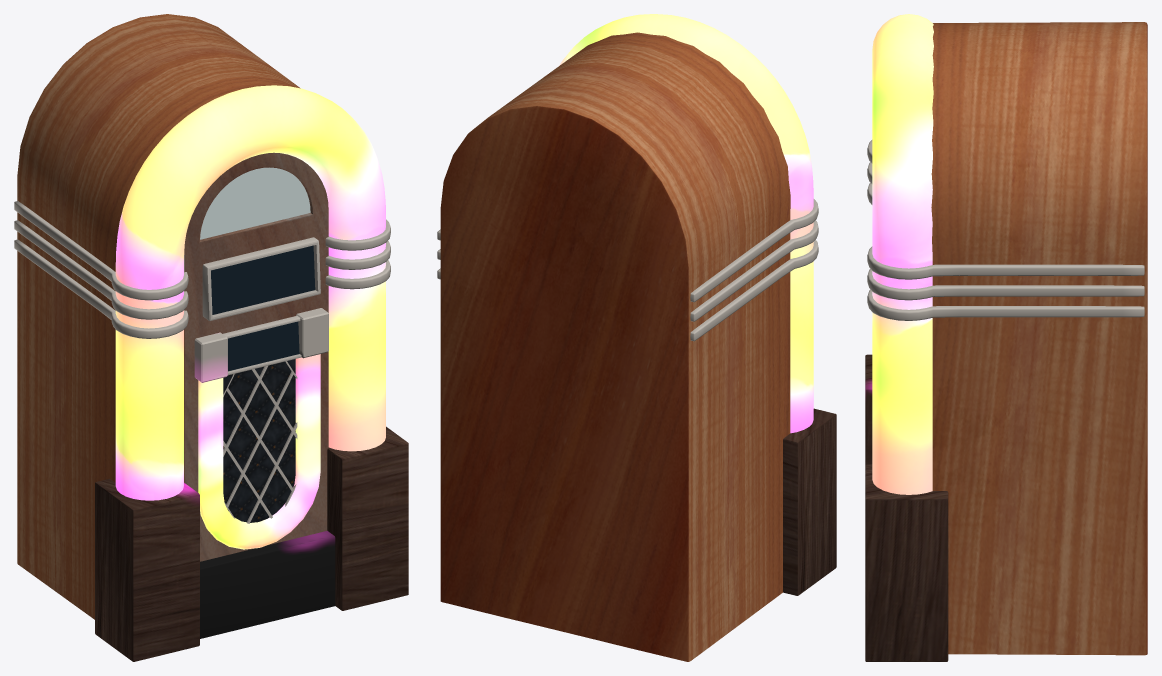
File: rockola.glb
3 renders of one model, left to right at view 1: azimuth 30°, elevation 25°; view 2: azimuth 150°, elevation 25°; view 3: azimuth 270°, elevation 25°, orthographic. The views are drawn at different scales.
Parts seen in each view (by area): view 1: MSH_Rockola_MTL_Rockola_0; view 2: MSH_Rockola_MTL_Rockola_0; view 3: MSH_Rockola_MTL_Rockola_0.
Boxes of the visible parts, left/top/right/bottom form: MSH_Rockola_MTL_Rockola_0: left=14, top=14, right=408, bottom=661; MSH_Rockola_MTL_Rockola_0: left=437, top=14, right=836, bottom=661; MSH_Rockola_MTL_Rockola_0: left=865, top=14, right=1147, bottom=661.
Size of the model in its own units: 0.6498 by 1.18 by 0.5369.
1 material, 1 textured.
